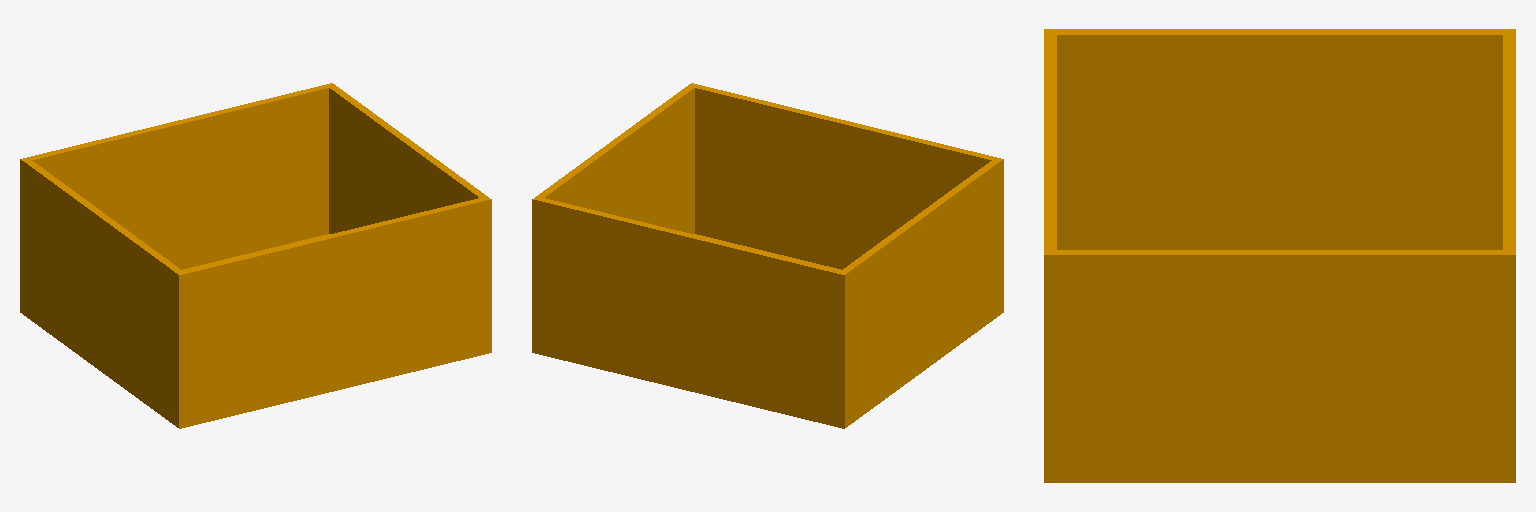
URDF robot description (hinged_box_4):
<?xml version='1.0' encoding='utf-8'?>
<robot name="hinged_box_4">
  <link name="body">
    <inertial>
      <origin xyz="0.0 0.0 0.056025670561132196" />
      <mass value="0.4" />
      <inertia ixx="0.005950534188715435" iyy="0.007059593702730025" izz="0.010842661751960959" ixy="0.0" ixz="0.0" iyz="0.0" />
    </inertial>
    <collision>
      <geometry>
        <mesh filename="part_00.obj" />
      </geometry>
    </collision>
    <collision>
      <geometry>
        <mesh filename="part_01.obj" />
      </geometry>
    </collision>
    <collision>
      <geometry>
        <mesh filename="part_02.obj" />
      </geometry>
    </collision>
    <collision>
      <geometry>
        <mesh filename="part_03.obj" />
      </geometry>
    </collision>
    <collision>
      <geometry>
        <mesh filename="part_04.obj" />
      </geometry>
    </collision>
    <visual>
      <geometry>
        <mesh filename="visual.obj" />
      </geometry>
    </visual>
  </link>
</robot>

--- Facts derived from the render (not from the file) ---
3 views of the same robot in one strip: view 1: azimuth 30°, elevation 25°; view 2: azimuth 150°, elevation 25°; view 3: azimuth 270°, elevation 25° (orthographic).
Robot: hinged_box_4 — 1 links, 0 joints (none); root link body; default pose: all joints at 0.
Links seen in each view (by area): view 1: body; view 2: body; view 3: body.
Link boxes in pixels (box(x1,y1,x2,y2)): body: box(20, 83, 491, 428); body: box(532, 83, 1003, 428); body: box(1044, 29, 1515, 482).
Bounding box of the posed robot: 0.34 × 0.3 × 0.16 m (x, y, z).
1 mesh visuals loaded from 1 distinct referenced files (1 OBJ).
